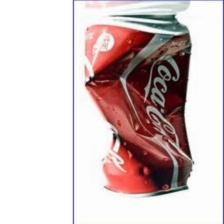can: (70, 11, 199, 201)
